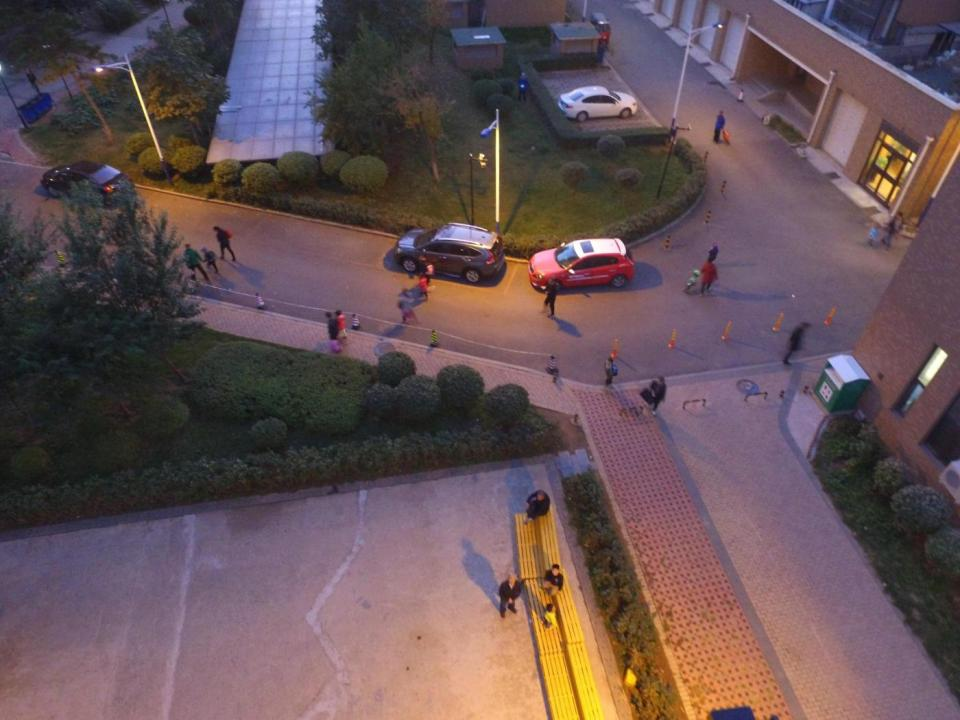car: (392, 220, 504, 284), (530, 237, 632, 292), (41, 162, 135, 212), (557, 83, 636, 123)
